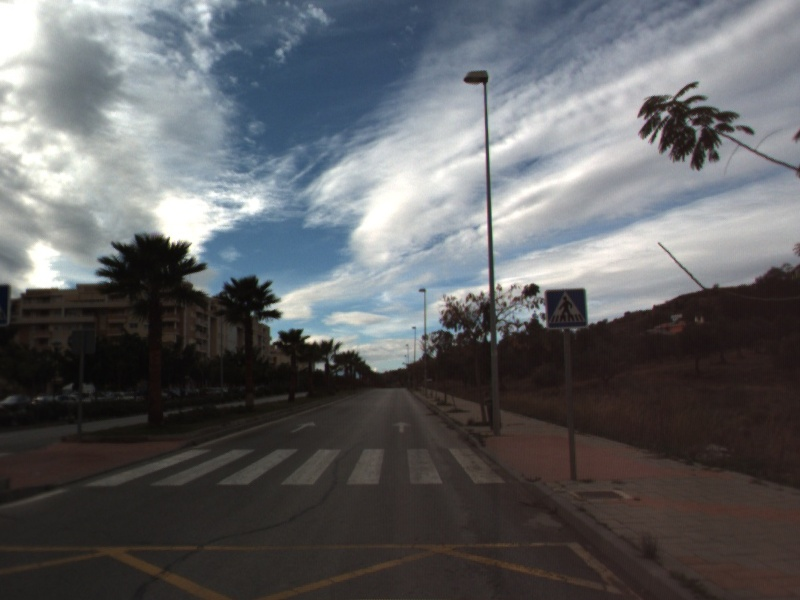STRAIGHT: (289, 419, 318, 435), (391, 419, 413, 434)
